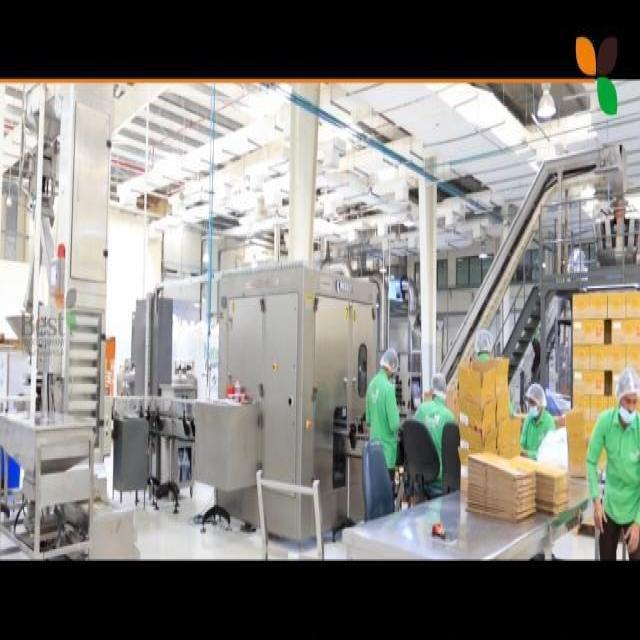bare_hand: (622, 502, 640, 552), (588, 495, 609, 534)
